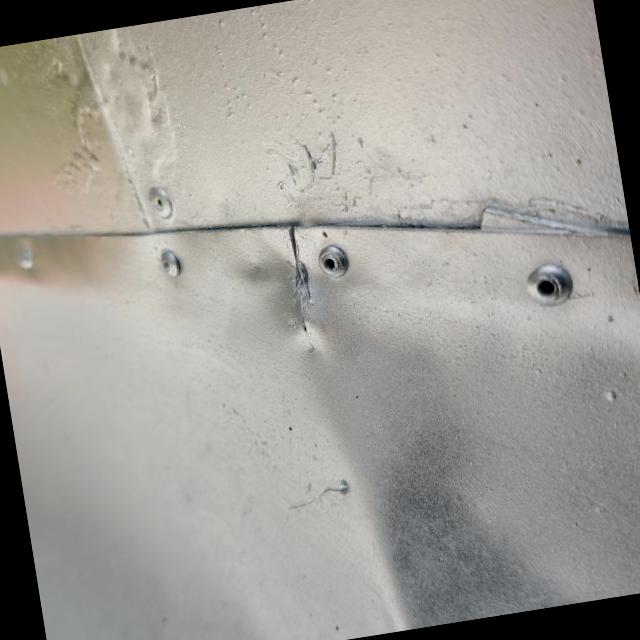dent: (291, 188, 625, 638)
